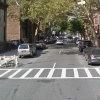Crosswalk: (7, 59, 100, 90)
